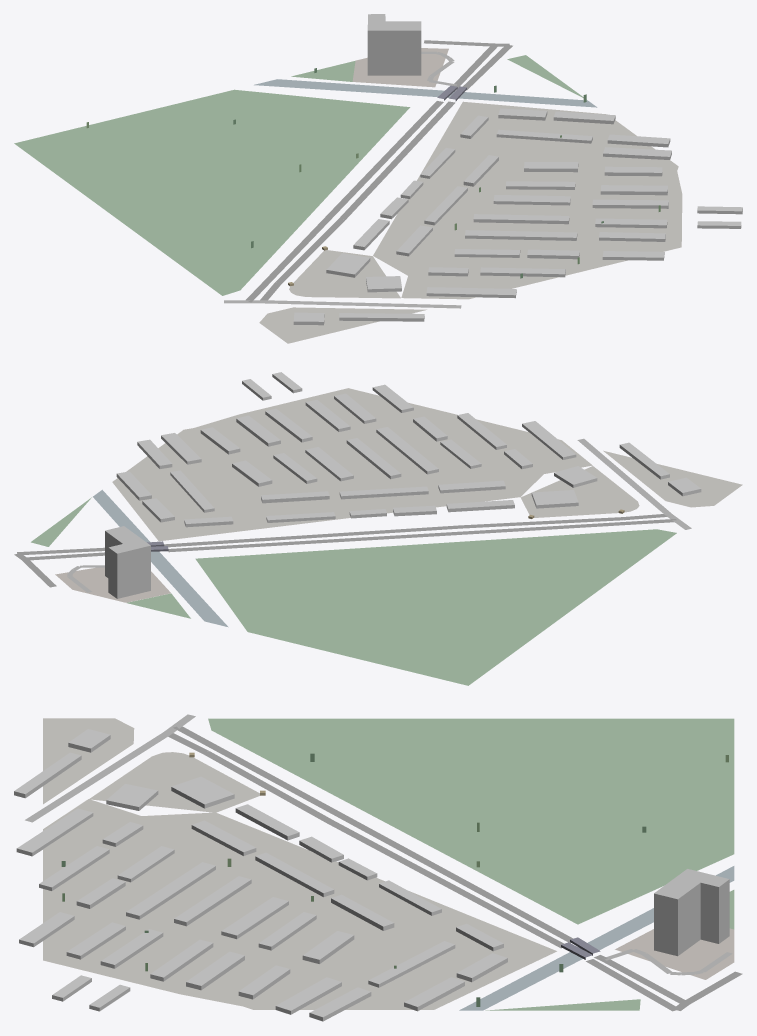
The picture shows the model from 3 angles, top to bottom: view 1: azimuth 30°, elevation 25°; view 2: azimuth 150°, elevation 25°; view 3: azimuth 270°, elevation 25°; orthographic projection. The views are drawn at different scales.
Bounding box in the file's own units: 527 × 45.61 × 527.
